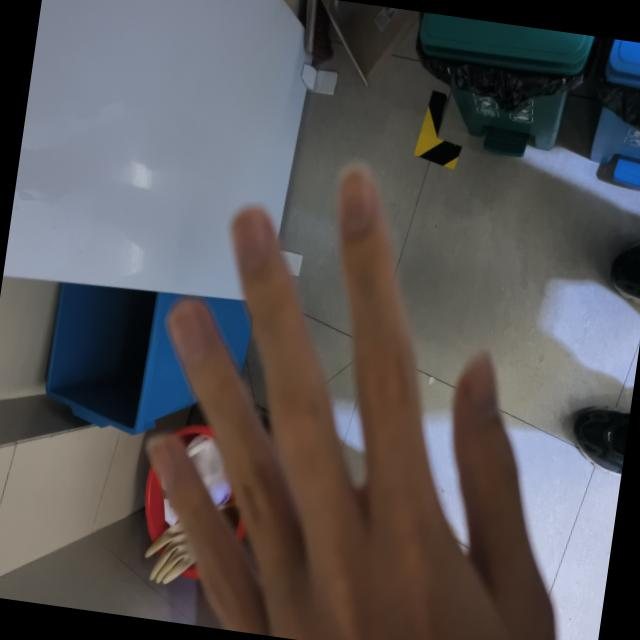Nail: (167, 304, 205, 365), (340, 164, 373, 229), (464, 355, 499, 415), (231, 211, 265, 268), (147, 438, 174, 491)
